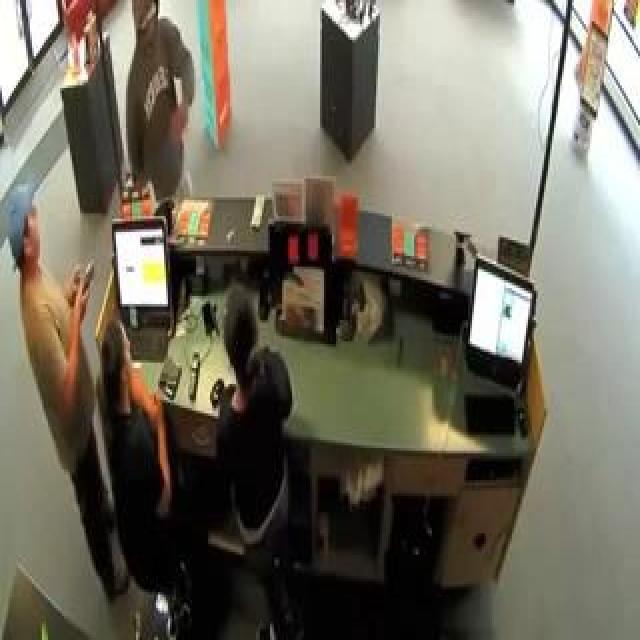high_con: (126, 0, 166, 48)
low_con: (0, 181, 46, 288)
no_con: (216, 288, 269, 391), (95, 320, 137, 425)
